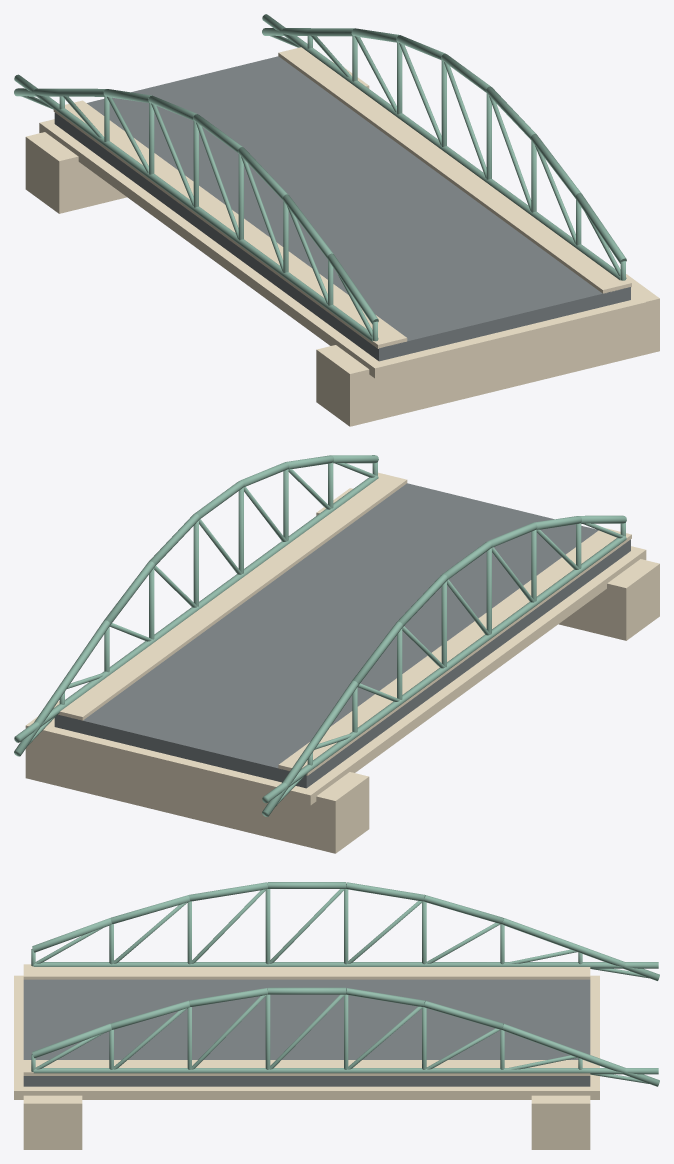
Rendered from bridge-lod0.glb.
The picture shows the model from 3 angles, top to bottom: view 1: azimuth 30°, elevation 25°; view 2: azimuth 150°, elevation 25°; view 3: azimuth 270°, elevation 25°; orthographic projection. The views are drawn at different scales.
Visible parts, largest first — view 1: bridge_architecture; view 2: bridge_architecture; view 3: bridge_architecture.
Boxes of the visible parts, x1,y1,x2,y2 form: bridge_architecture: (14,14,659,426); bridge_architecture: (14,455,659,853); bridge_architecture: (14,882,659,1149).
Bounding box in the file's own units: 16 × 8.38 × 33.06.
